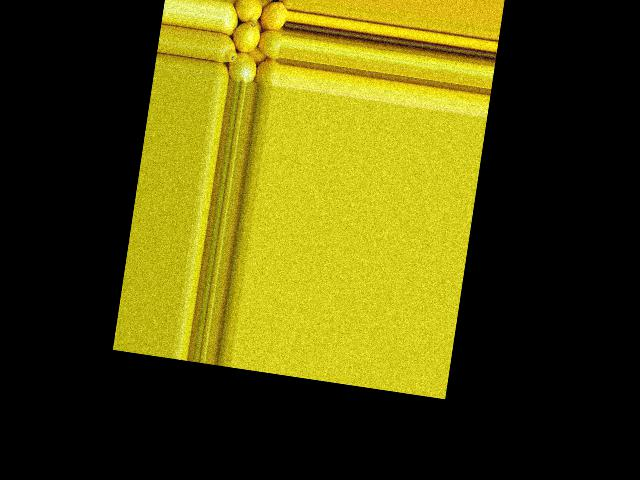lemon: (214, 63, 231, 81)
